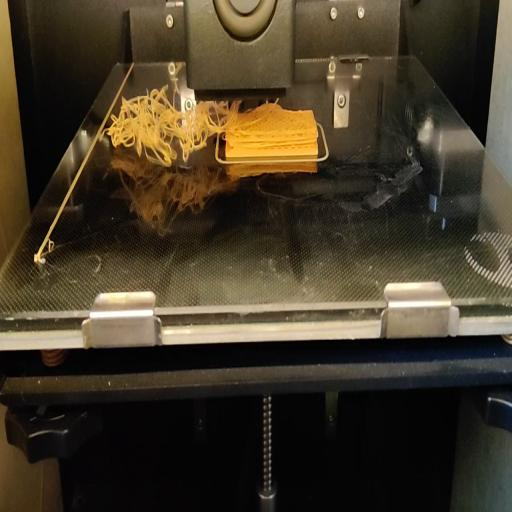spaghetti: (105, 80, 196, 177), (194, 97, 237, 144)
